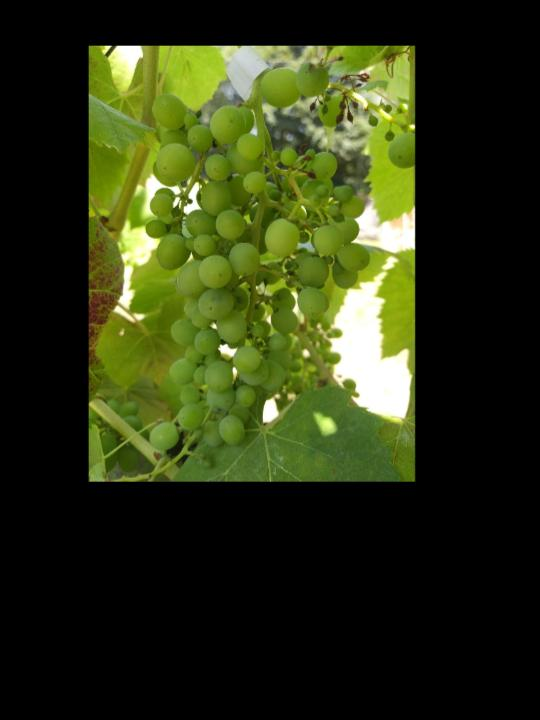grape: (147, 92, 373, 451)
